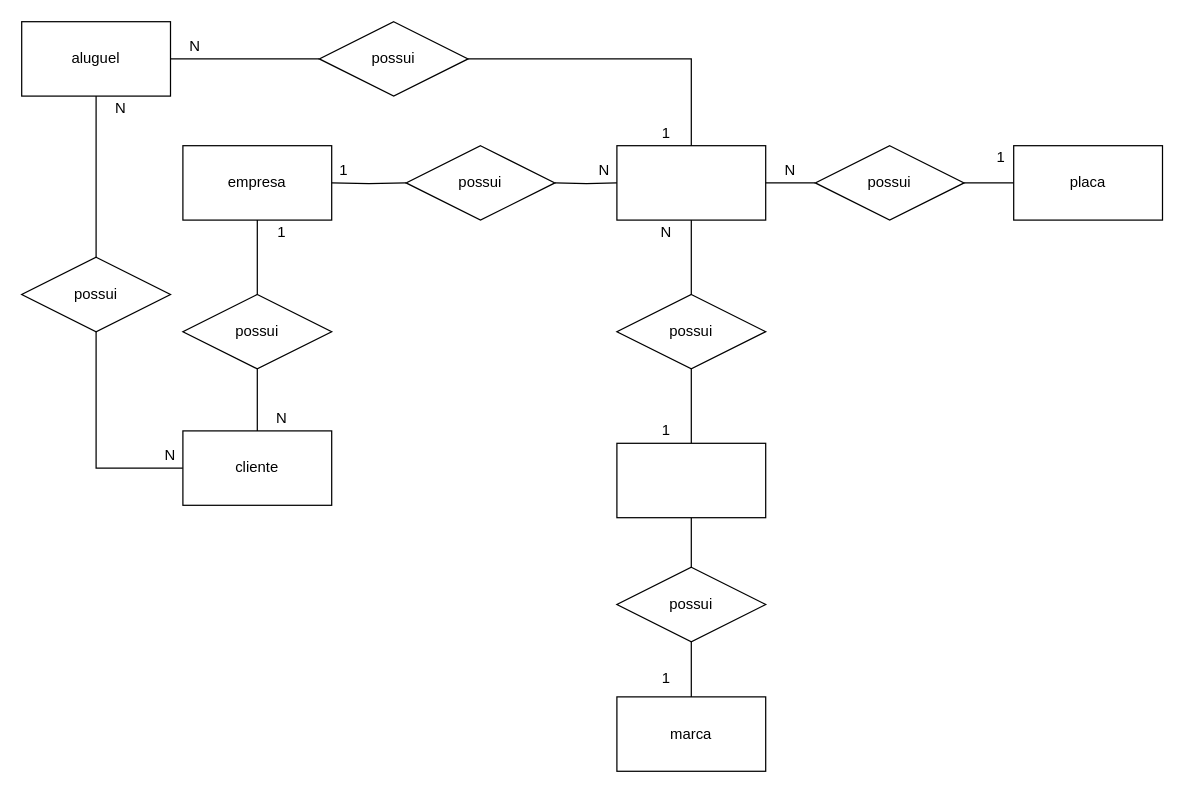
The diagram is 1184 pixels wide and 794 high, and some of its shapes have lost their labels. Each missing label, with the centre of its shape:
"modelo" goes at [691,480].
"veiculos" goes at [691,182].
